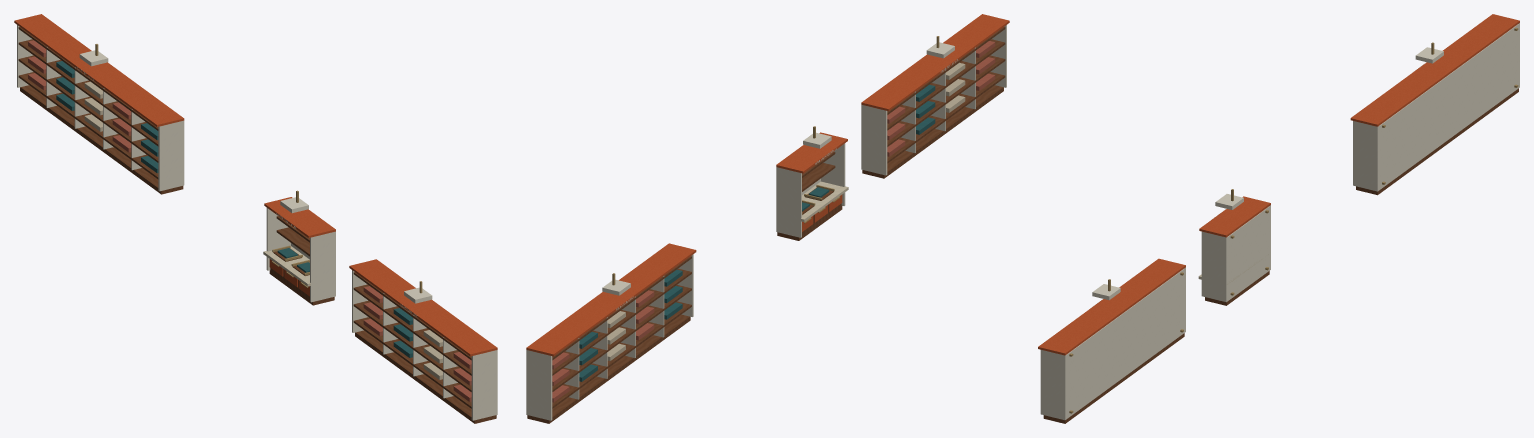
The model's file is thread_stock_repair_r001.glb.
3 views of the same model, side by side, from view 1: azimuth 30°, elevation 25°; view 2: azimuth 150°, elevation 25°; view 3: azimuth 330°, elevation 25° (orthographic).
Parts seen in each view (by area): view 1: TextileStock_crown, TextileReserve_crown, TextileReserve_side_-200.0, TextileStock_side_-221.7, RepairReturn_side_-211.2, TextileStock_plinth, TextileReserve_plinth, RepairReturn_crown, TextileStock_shelf_1.18, TextileStock_shelf_0.55, TextileStock_shelf_1.81, TextileReserve_shelf_1.18 (+8 smaller); view 2: TextileStock_crown, TextileReserve_crown, TextileReserve_side_-208.3, TextileStock_side_-231.5, RepairReturn_side_-214.2, TextileStock_plinth, TextileReserve_plinth, RepairReturn_crown, TextileStock_shelf_0.55, TextileStock_shelf_1.18, TextileStock_shelf_1.81, TextileReserve_shelf_0.55 (+9 smaller); view 3: TextileStock_back, TextileReserve_back, TextileStock_crown, TextileReserve_crown, RepairReturn_back, RepairReturn_side_-211.2, TextileReserve_side_-200.0, TextileStock_side_-221.7, RepairReturn_crown, TextileStock_plinth, TextileReserve_plinth.
Boxes of the visible parts, x1,y1,x2,y2 form: TextileStock_crown: [14, 14, 184, 126]; TextileReserve_crown: [349, 259, 497, 356]; TextileReserve_side_-200.0: [471, 350, 497, 420]; TextileStock_side_-221.7: [158, 120, 184, 191]; RepairReturn_side_-211.2: [310, 231, 335, 302]; TextileStock_plinth: [20, 85, 183, 194]; TextileReserve_plinth: [355, 330, 496, 423]; RepairReturn_crown: [264, 197, 335, 237]; TextileStock_shelf_1.18: [18, 55, 158, 162]; TextileStock_shelf_0.55: [18, 72, 158, 179]; TextileStock_shelf_1.81: [18, 39, 158, 146]; TextileReserve_shelf_1.18: [353, 300, 471, 391]; TextileStock_crown: [526, 243, 696, 356]; TextileReserve_crown: [861, 14, 1009, 111]; TextileReserve_side_-208.3: [861, 104, 887, 175]; TextileStock_side_-231.5: [526, 350, 552, 420]; RepairReturn_side_-214.2: [776, 167, 801, 237]; TextileStock_plinth: [527, 314, 690, 423]; TextileReserve_plinth: [862, 85, 1003, 178]; RepairReturn_crown: [776, 132, 847, 173]; TextileStock_shelf_0.55: [552, 301, 691, 408]; TextileStock_shelf_1.18: [552, 285, 691, 391]; TextileStock_shelf_1.81: [552, 268, 691, 375]; TextileReserve_shelf_0.55: [887, 72, 1005, 163]; TextileStock_back: [1378, 24, 1519, 190]; TextileReserve_back: [1065, 268, 1185, 419]; TextileStock_crown: [1350, 14, 1519, 126]; TextileReserve_crown: [1038, 258, 1185, 355]; RepairReturn_back: [1227, 206, 1270, 301]; RepairReturn_side_-211.2: [1201, 231, 1227, 302]; TextileReserve_side_-200.0: [1040, 350, 1066, 420]; TextileStock_side_-221.7: [1353, 121, 1378, 191]; RepairReturn_crown: [1199, 196, 1270, 237]; TextileStock_plinth: [1356, 88, 1518, 195]; TextileReserve_plinth: [1043, 333, 1184, 423].
Size of the model in its own units: 1.22 by 3.7 by 31.58.
8 materials, 8 textured.
